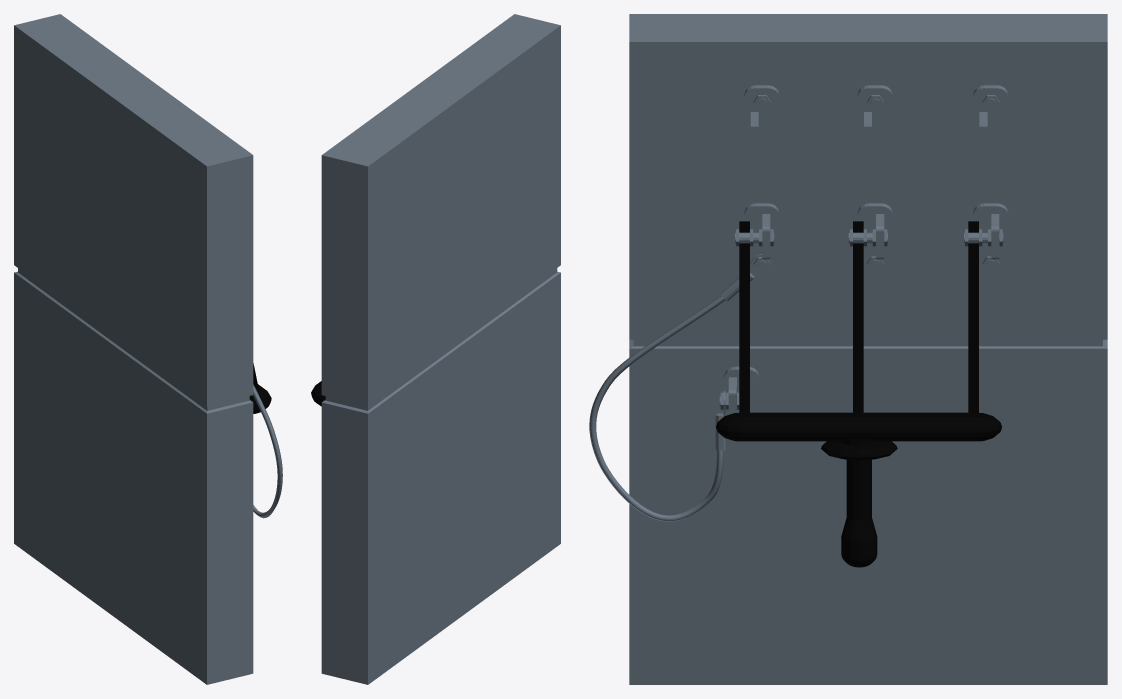
File: Power.fbx
The picture shows the model from 3 angles, left to right: view 1: azimuth 30°, elevation 25°; view 2: azimuth 150°, elevation 25°; view 3: azimuth 270°, elevation 25°; orthographic projection. The views are drawn at different scales.
Parts seen in each view (by area): view 1: Body; view 2: Body; view 3: Body, Lever.
Part boxes in pixels (x1,y1,x2,y2): Body: [14, 14, 282, 684]; Body: [321, 14, 560, 684]; Body: [589, 14, 1107, 684]; Lever: [716, 221, 1001, 567].
Bounding box in the file's own units: 52.77 × 215 × 157.
